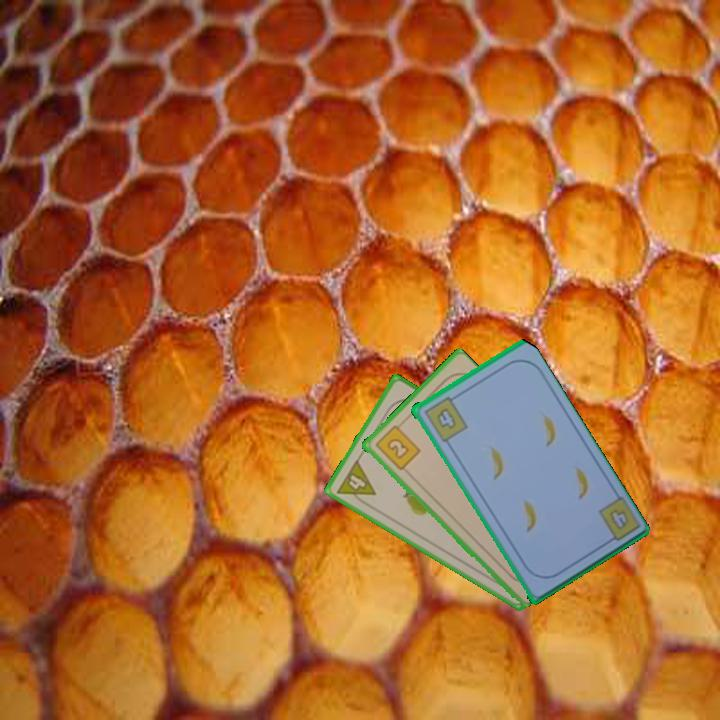2b: (371, 419, 423, 473)
4b: (594, 493, 642, 548), (420, 392, 470, 444)
4p: (333, 456, 379, 509)
